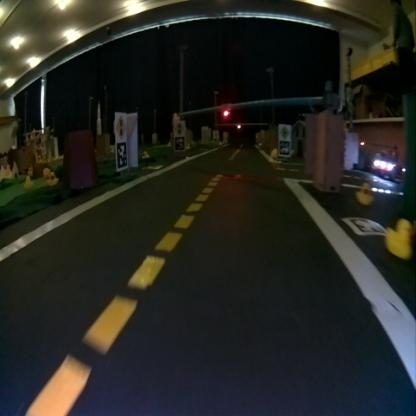Duckie: (386, 218, 412, 258), (356, 182, 374, 205), (46, 172, 57, 184), (24, 176, 32, 187)
Duckiebot: (372, 151, 404, 180)
Intersection sign: (279, 125, 290, 138)
QR code: (344, 218, 385, 236), (116, 140, 127, 168), (279, 142, 289, 154), (175, 136, 184, 148)
Signal sign: (115, 112, 125, 138), (173, 122, 185, 134)
Traffic light: (222, 101, 230, 119), (236, 122, 242, 129)
